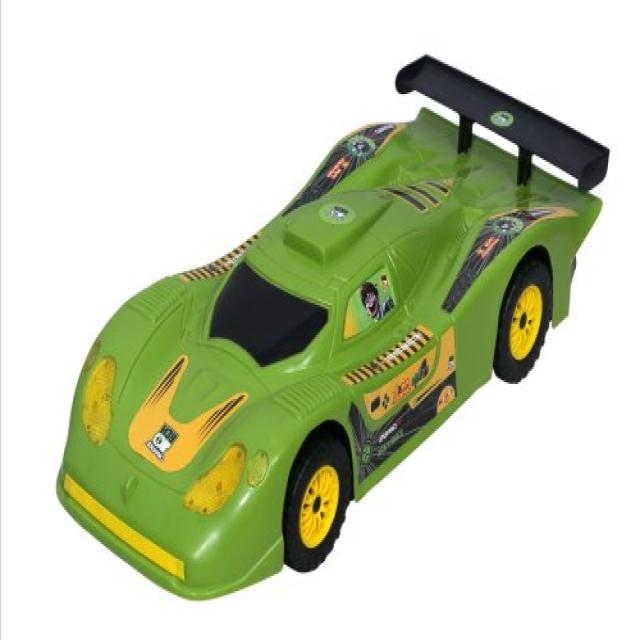Car: (57, 52, 610, 600)
